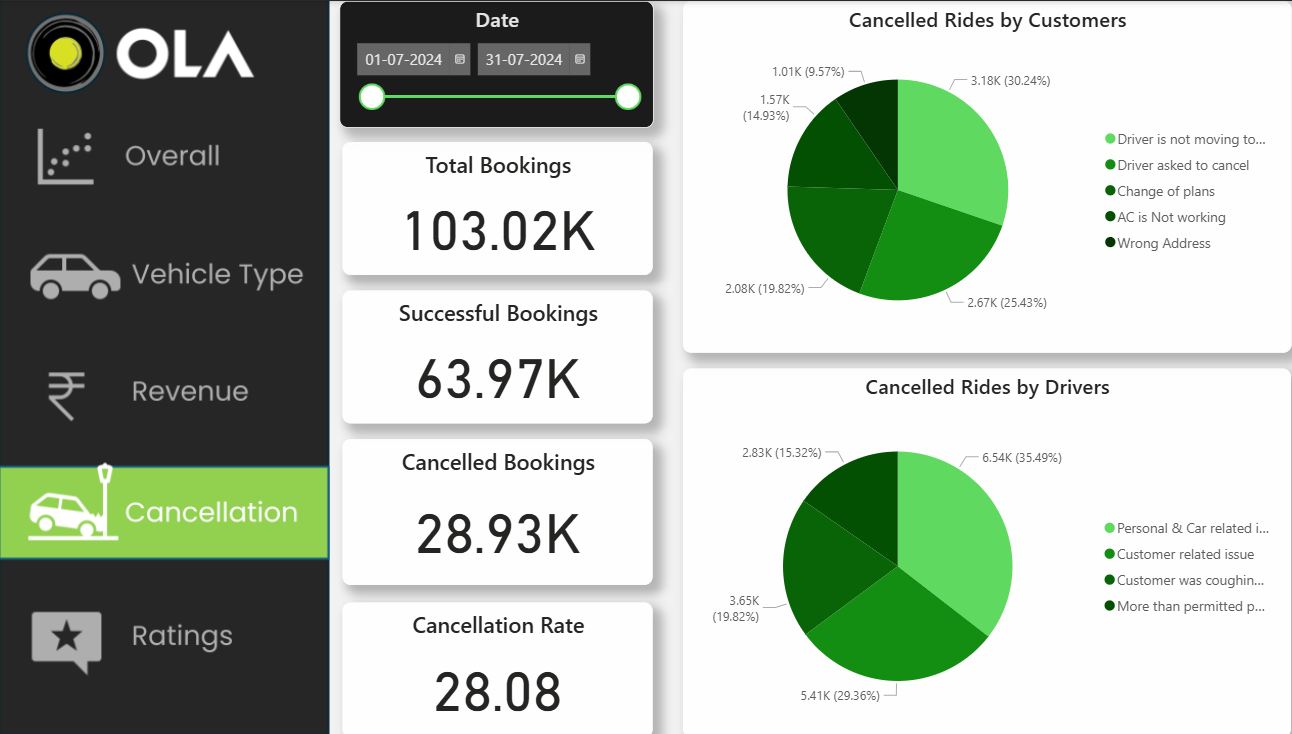

The page's visual inventory and layout, read from the dashboard file:
{"tool":"powerbi","page":{"name":"Cancellation","canvas":[1280,720],"ordinal":3},"visuals":[{"type":"actionButton","box":[0,218.6,322.8,98.3],"z":0},{"type":"actionButton","box":[0,333.1,322.8,98.3],"z":1000},{"type":"actionButton","box":[0,572.3,322.8,98.3],"z":2000},{"type":"actionButton","box":[0,104.2,322.8,98.3],"z":3000},{"type":"pieChart","title":"Cancelled Rides by Customers","fields":{"Y":["CountNonNull(Bookings-100000-Rows xlsx - July.Booking_ID)"],"Category":["Bookings-100000-Rows xlsx - July.Canceled_Rides_by_Customer"]},"box":[669.3,0,595.1,343.7],"z":4000},{"type":"pieChart","title":"Cancelled Rides by Drivers","fields":{"Y":["CountNonNull(Bookings-100000-Rows xlsx - July.Booking_ID)"],"Category":["Bookings-100000-Rows xlsx - July.Canceled_Rides_by_Driver"]},"box":[669.2,359.4,594.8,360.9],"z":5000},{"type":"slicer","title":"Date","fields":{"Values":["Bookings-100000-Rows xlsx - July.Date"]},"box":[333.1,0,307.4,124.2],"z":6000},{"type":"card","title":"Total Bookings","fields":{"Values":["Count(Bookings-100000-Rows xlsx - July.Booking_ID)"]},"box":[336.1,137.9,303.6,130.1],"z":7000},{"type":"card","title":"Successful Bookings","fields":{"Values":["Count(Bookings-100000-Rows xlsx - July.Booking_ID)"]},"box":[336.1,283.5,303.6,130.1],"z":8000},{"type":"card","title":"Cancelled Bookings","fields":{"Values":["Count(Bookings-100000-Rows xlsx - July.Booking_ID)"]},"box":[336.1,429.1,303.6,142.5],"z":9000},{"type":"card","title":"Cancellation Rate","fields":{"Values":["Bookings-100000-Rows xlsx - July.CancelledPercentage"]},"box":[336.1,588.6,303.6,131.7],"z":10000}]}

Visuals, with their boxes in screenshot pixels (x1, y1, x2, y2), scaled from the page's 1280x720 canvas onto the 1292x734 screenshot:
actionButton: pyautogui.locateOnScreen(0, 223, 326, 323)
actionButton: pyautogui.locateOnScreen(0, 340, 326, 440)
actionButton: pyautogui.locateOnScreen(0, 583, 326, 684)
actionButton: pyautogui.locateOnScreen(0, 106, 326, 206)
"Cancelled Rides by Customers" pieChart: pyautogui.locateOnScreen(676, 0, 1276, 350)
"Cancelled Rides by Drivers" pieChart: pyautogui.locateOnScreen(675, 366, 1276, 733)
"Date" slicer: pyautogui.locateOnScreen(336, 0, 647, 127)
"Total Bookings" card: pyautogui.locateOnScreen(339, 141, 646, 273)
"Successful Bookings" card: pyautogui.locateOnScreen(339, 289, 646, 422)
"Cancelled Bookings" card: pyautogui.locateOnScreen(339, 437, 646, 583)
"Cancellation Rate" card: pyautogui.locateOnScreen(339, 600, 646, 733)
